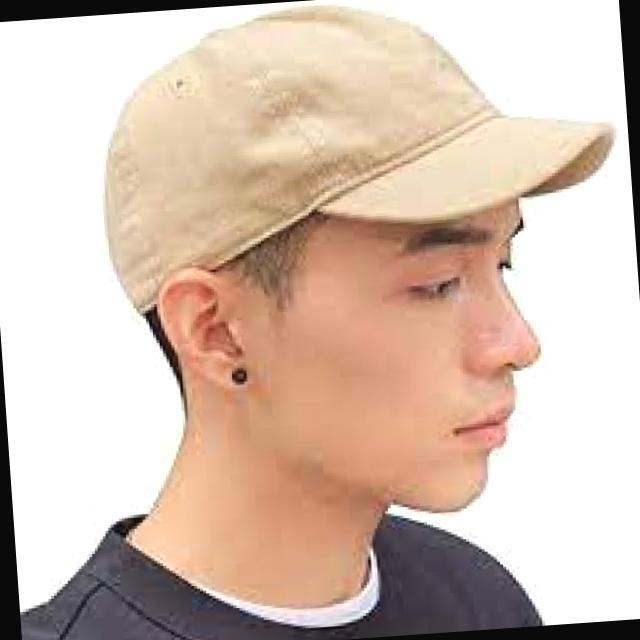cap: (63, 0, 633, 329)
